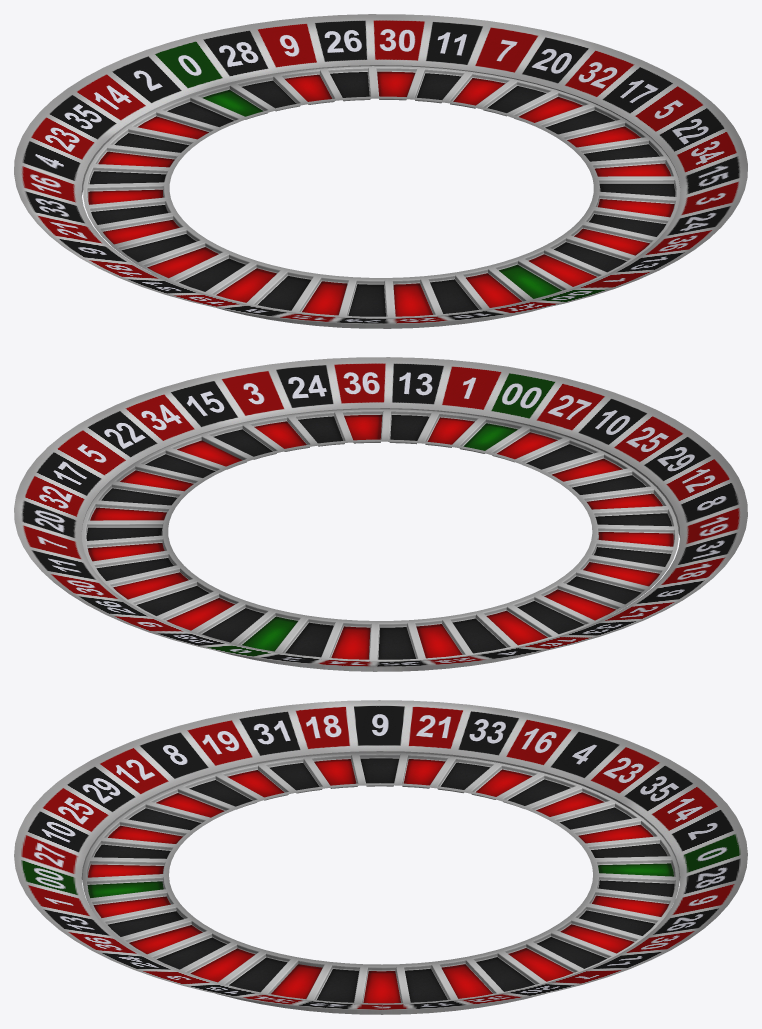
File: casilleros00.FBX
3 views of the same model, one above another, from view 1: azimuth 30°, elevation 25°; view 2: azimuth 150°, elevation 25°; view 3: azimuth 270°, elevation 25° (orthographic).
Visible parts, largest first — view 1: numero00, casillero00; view 2: numero00, casillero00; view 3: numero00, casillero00.
Boxes of the visible parts, x1,y1,x2,y2 form: numero00: (14, 14, 747, 328); casillero00: (83, 66, 680, 317); numero00: (14, 357, 747, 671); casillero00: (81, 409, 678, 660); numero00: (14, 700, 747, 1014); casillero00: (82, 752, 679, 1003).
Bounding box in the file's own units: 173 × 8.63 × 173.
2 materials, 2 textured.
